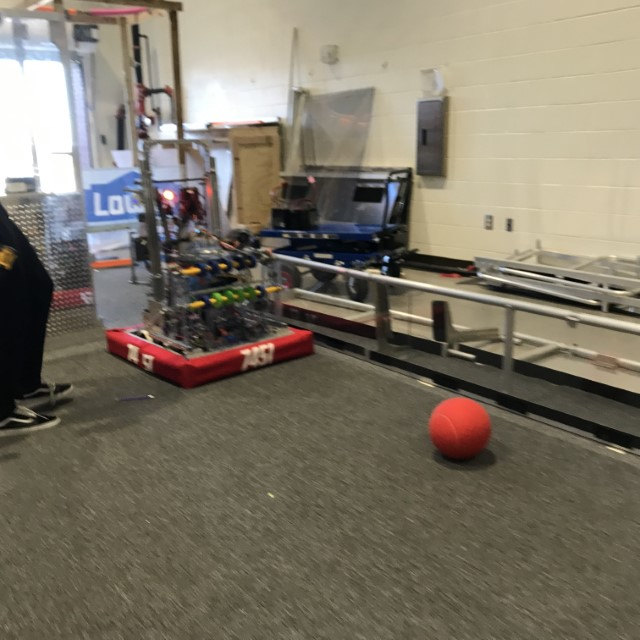red: (426, 394, 494, 462)
